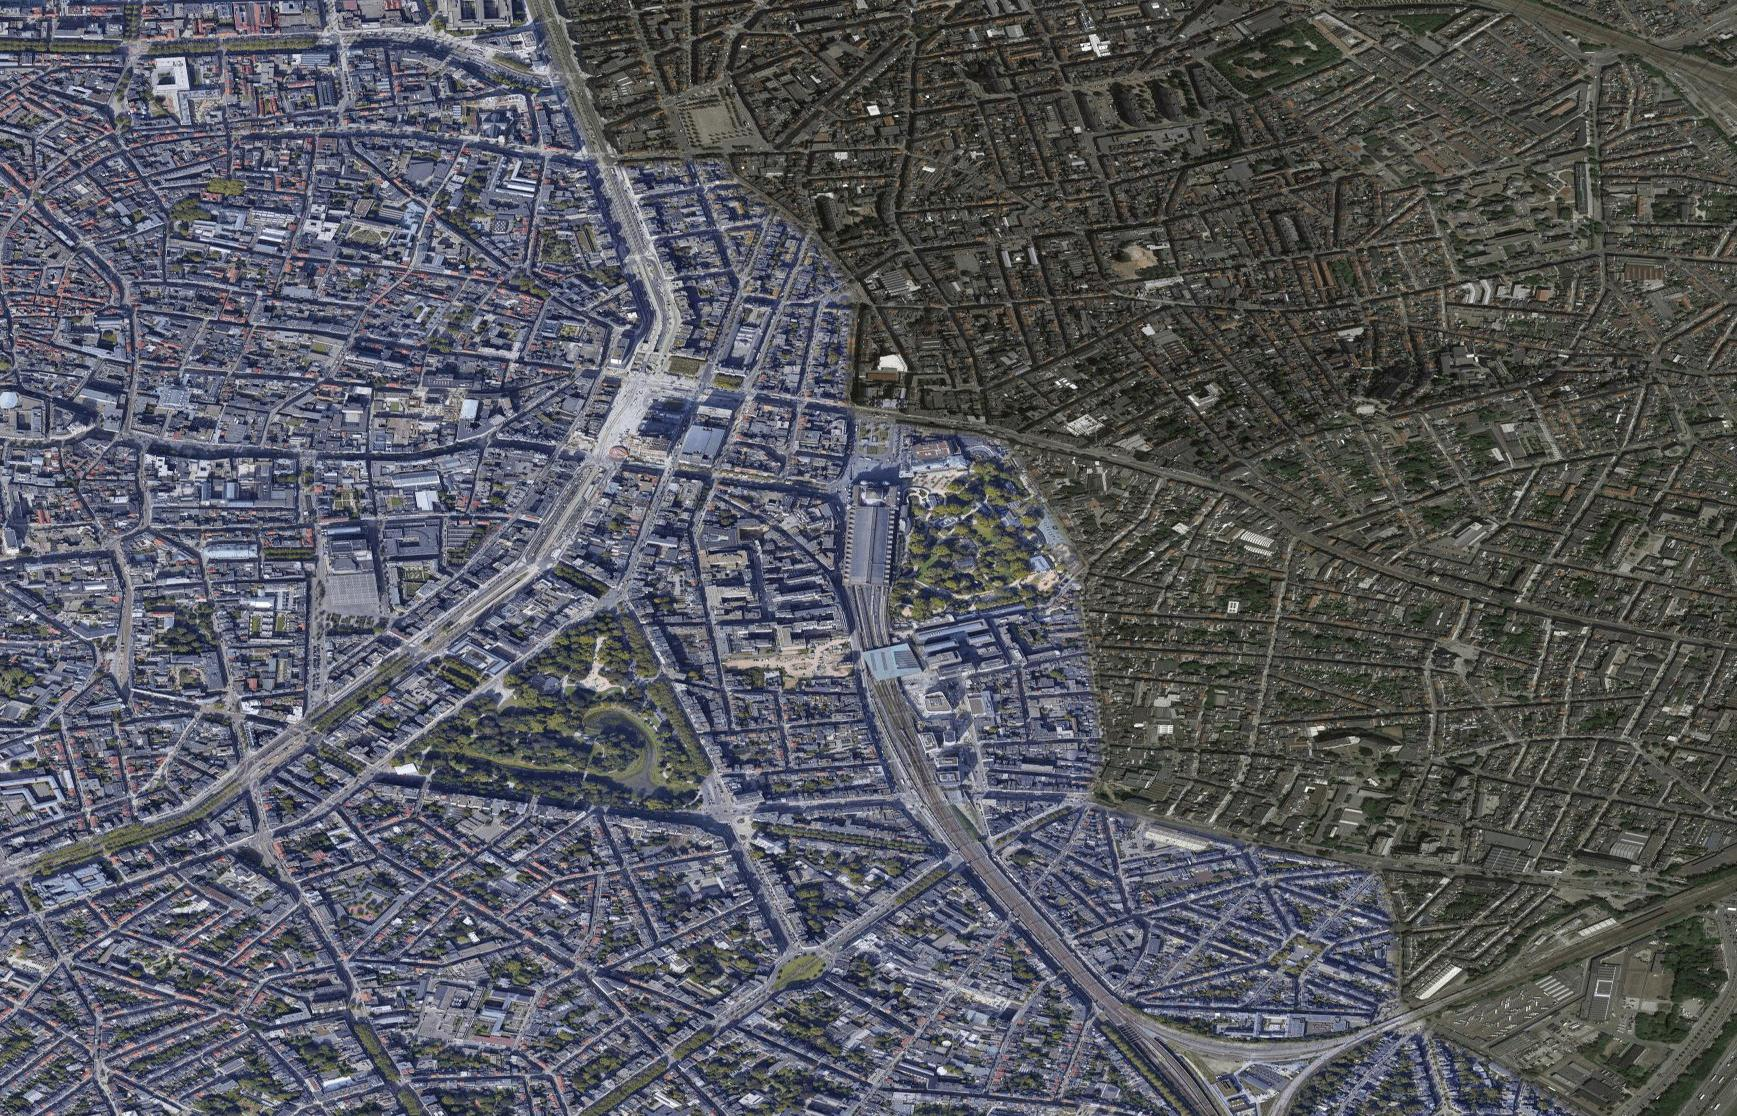train_station: (829, 486, 909, 630)
